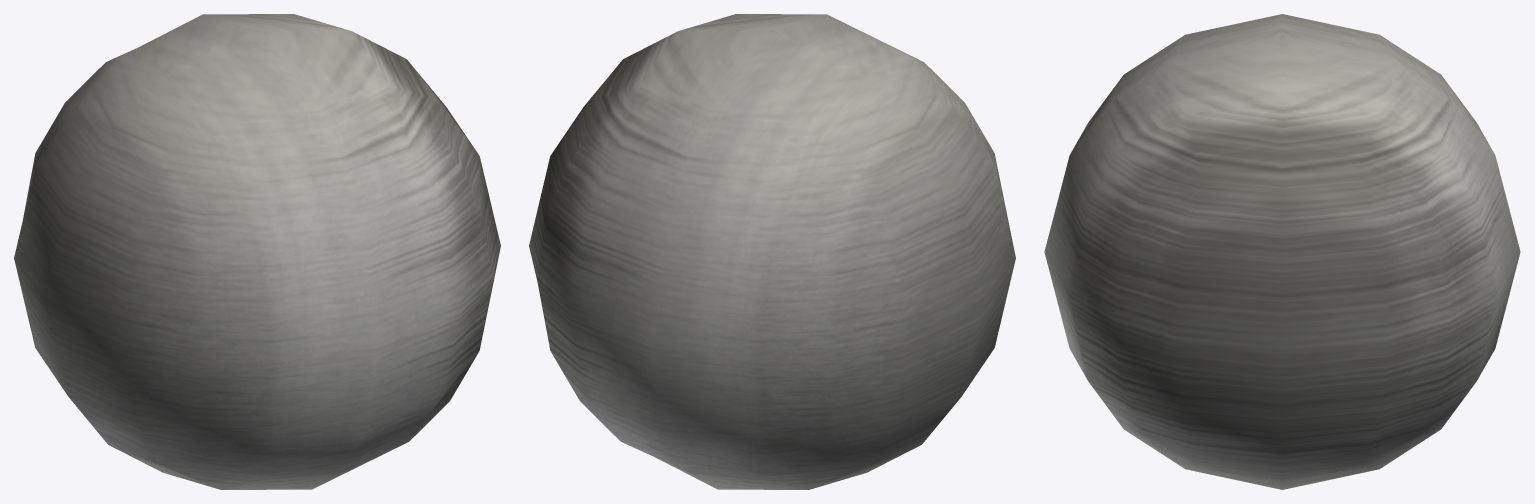
Rendered from metalpipejoint.fbx.
3 views of the same model, side by side, from view 1: azimuth 30°, elevation 25°; view 2: azimuth 150°, elevation 25°; view 3: azimuth 270°, elevation 25° (orthographic). The views are drawn at different scales.
Visible parts, largest first — view 1: metalpipejoint; view 2: metalpipejoint; view 3: metalpipejoint.
Part boxes in pixels (left/top/right/bottom): metalpipejoint: left=14, top=14, right=500, bottom=489; metalpipejoint: left=529, top=14, right=1015, bottom=489; metalpipejoint: left=1044, top=14, right=1520, bottom=489.
Size of the model in its own units: 102 by 102 by 102.
